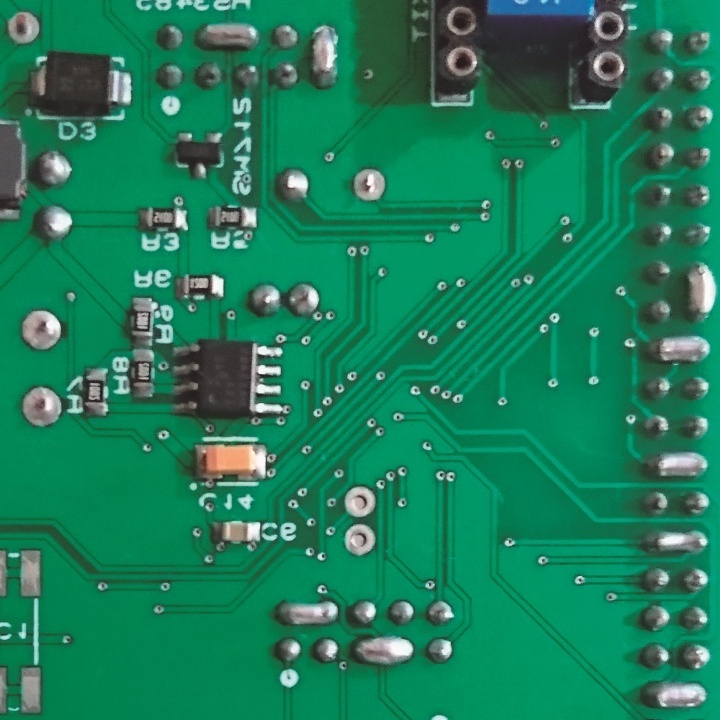F: (19, 383, 64, 432), (19, 309, 65, 351), (6, 7, 41, 46), (349, 167, 387, 202), (342, 522, 376, 558), (341, 485, 376, 519)
P: (641, 676, 710, 715), (683, 257, 719, 324), (349, 632, 417, 667), (308, 21, 342, 90), (642, 447, 711, 480), (642, 525, 711, 558), (272, 598, 344, 627), (642, 334, 713, 363), (193, 20, 263, 49)
